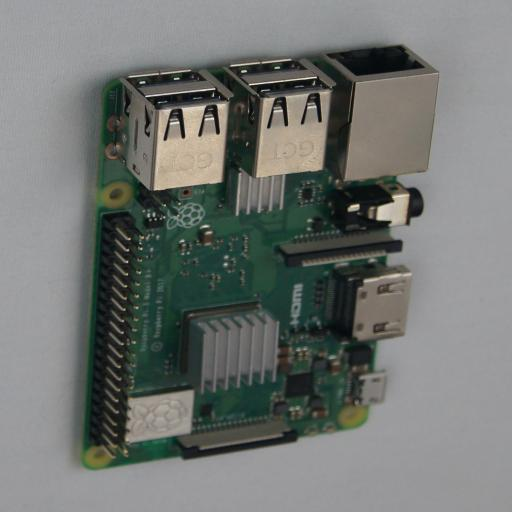Raspberry Pi 3 B-: (74, 44, 438, 470)
